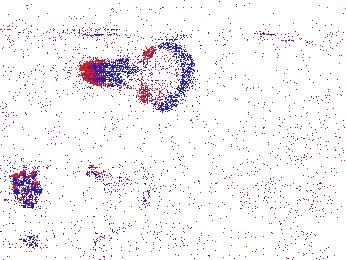flame jellyfish: (84, 41, 197, 111), (83, 162, 152, 219), (3, 163, 51, 213)
